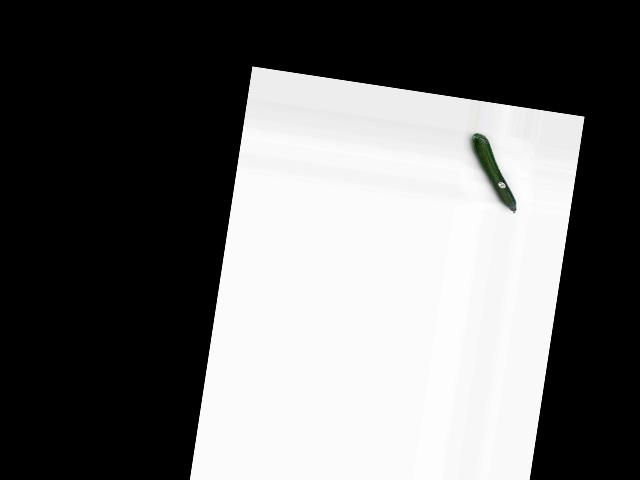cucumber: (462, 133, 526, 213)
